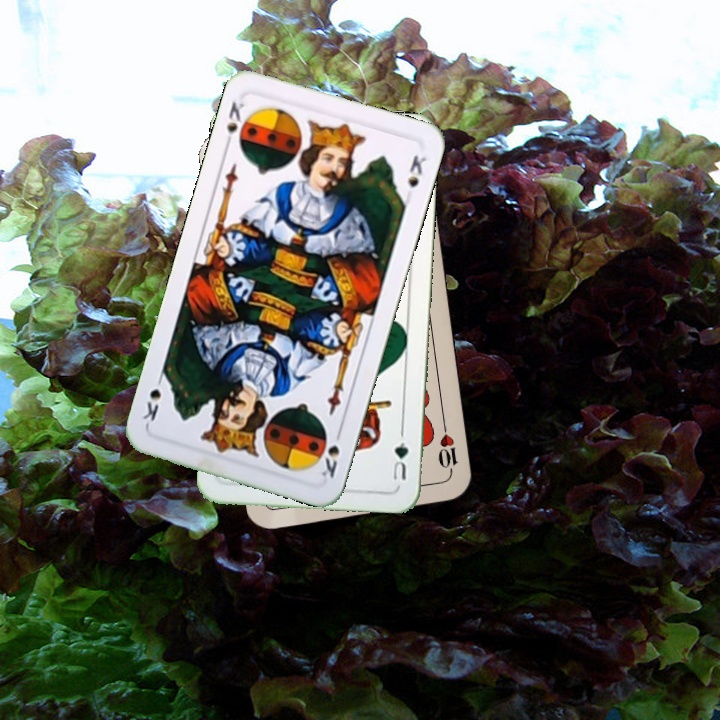GU: (388, 438, 411, 485)
H10: (434, 420, 460, 479)
SK: (317, 424, 345, 481), (221, 97, 247, 151)
